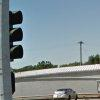Traffic light: (5, 6, 29, 67)
